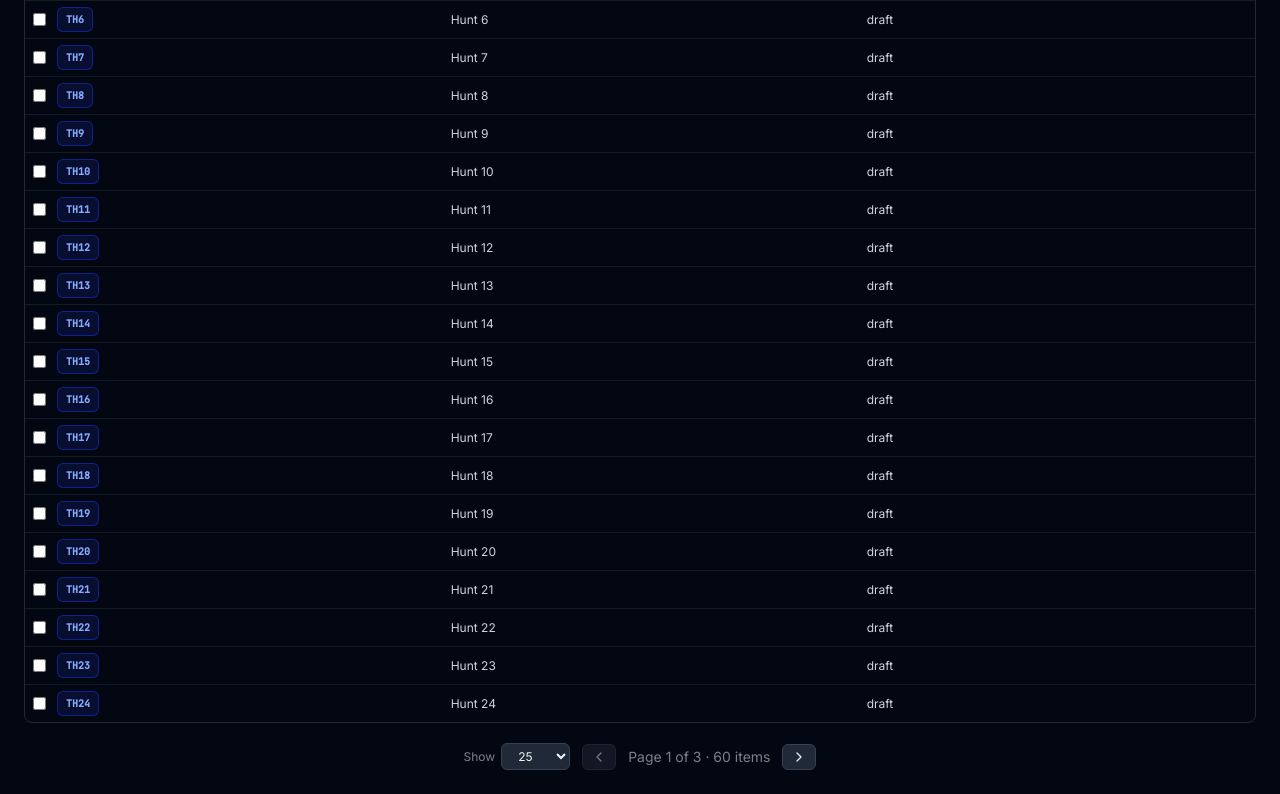
Test: DataExplorer — pagination (issue-local-034) › resets to page 1 when switching category
(page scrolled)
Click the button named "next page". click: coordinates (800, 756)
box: [782, 744, 816, 770]
(page scrolled)
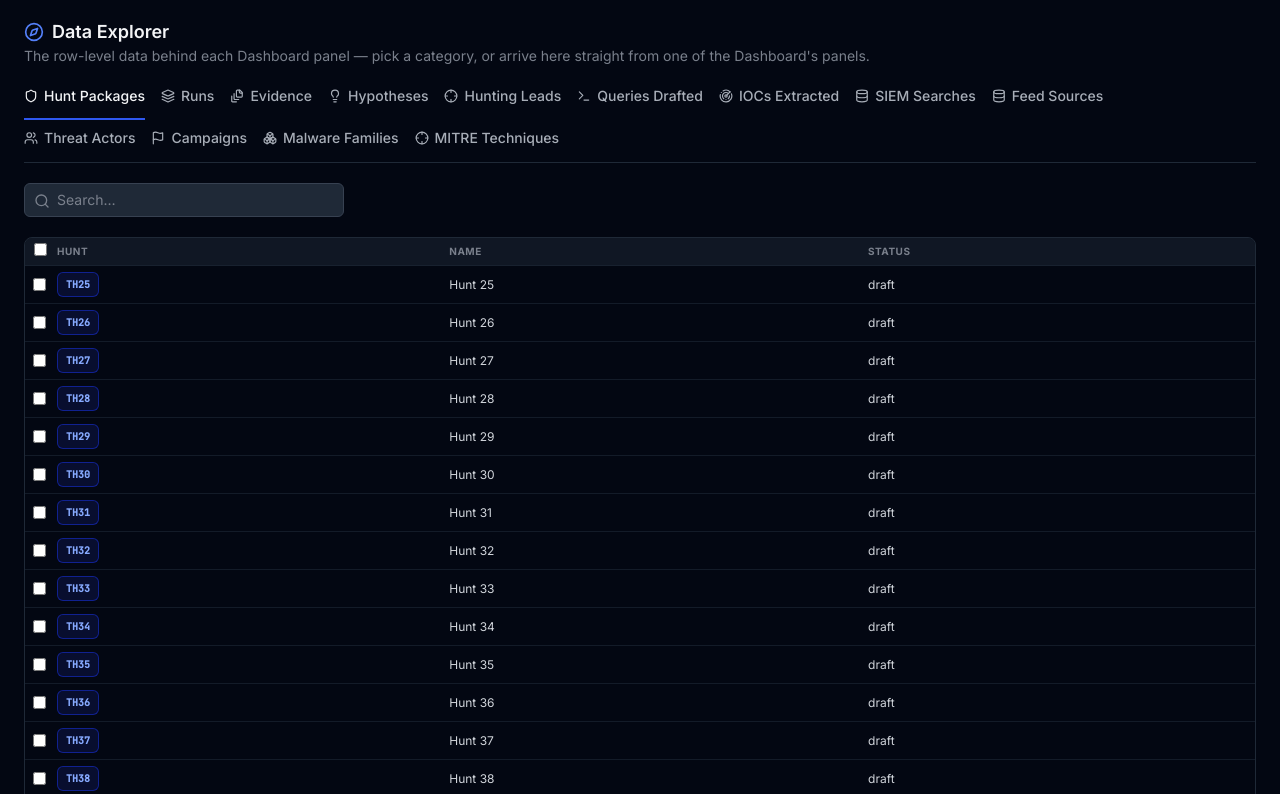
Click the button "Runs". click: coordinates (188, 103)
box: [161, 86, 214, 120]
(page scrolled)
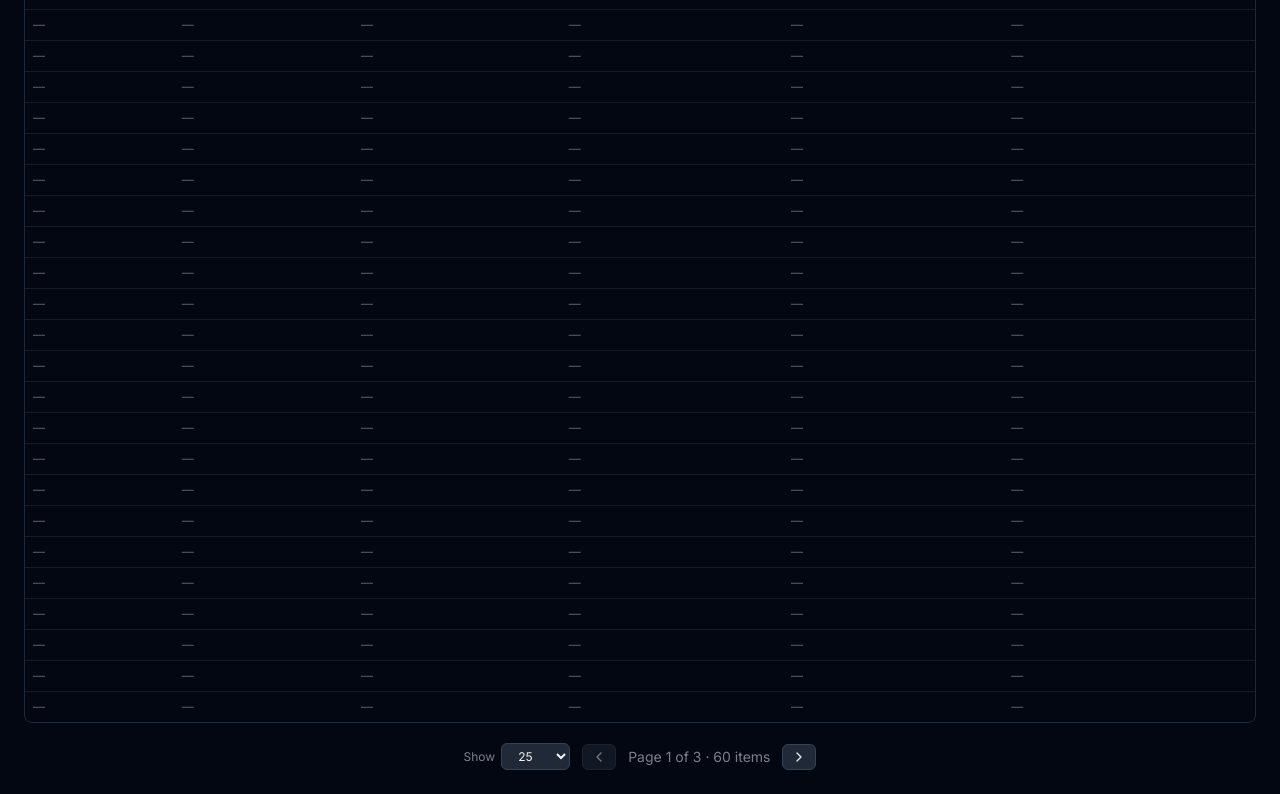
Check: the text "Page 1 of 3 · 60 items" is shown, box [628, 746, 770, 766]
